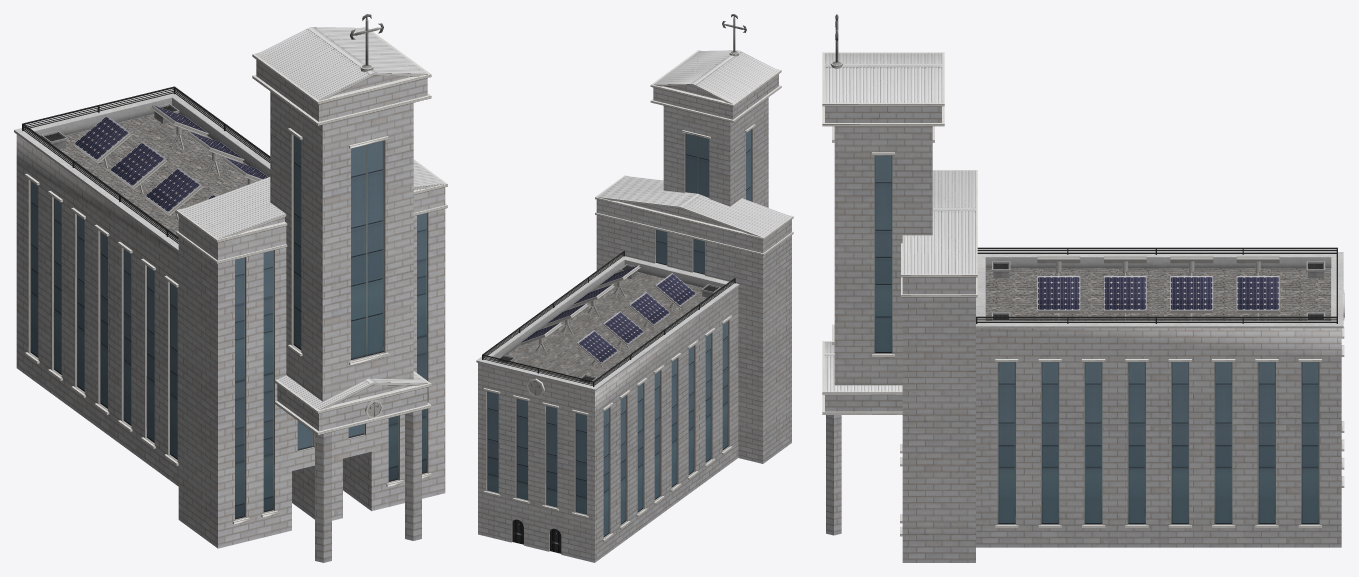
3 renders of one model, left to right at view 1: azimuth 30°, elevation 25°; view 2: azimuth 150°, elevation 25°; view 3: azimuth 270°, elevation 25°, orthographic. The views are drawn at different scales.
Parts seen in each view (by area): view 1: MainBuilding; view 2: MainBuilding; view 3: MainBuilding.
Boxes of the visible parts, left/top/right/bottom form: MainBuilding: left=14, top=14, right=447, bottom=562; MainBuilding: left=476, top=14, right=793, bottom=562; MainBuilding: left=822, top=14, right=1344, bottom=562.
Bounding box in the file's own units: 2.03 × 4.48 × 4.27.
1 material, 1 textured.
